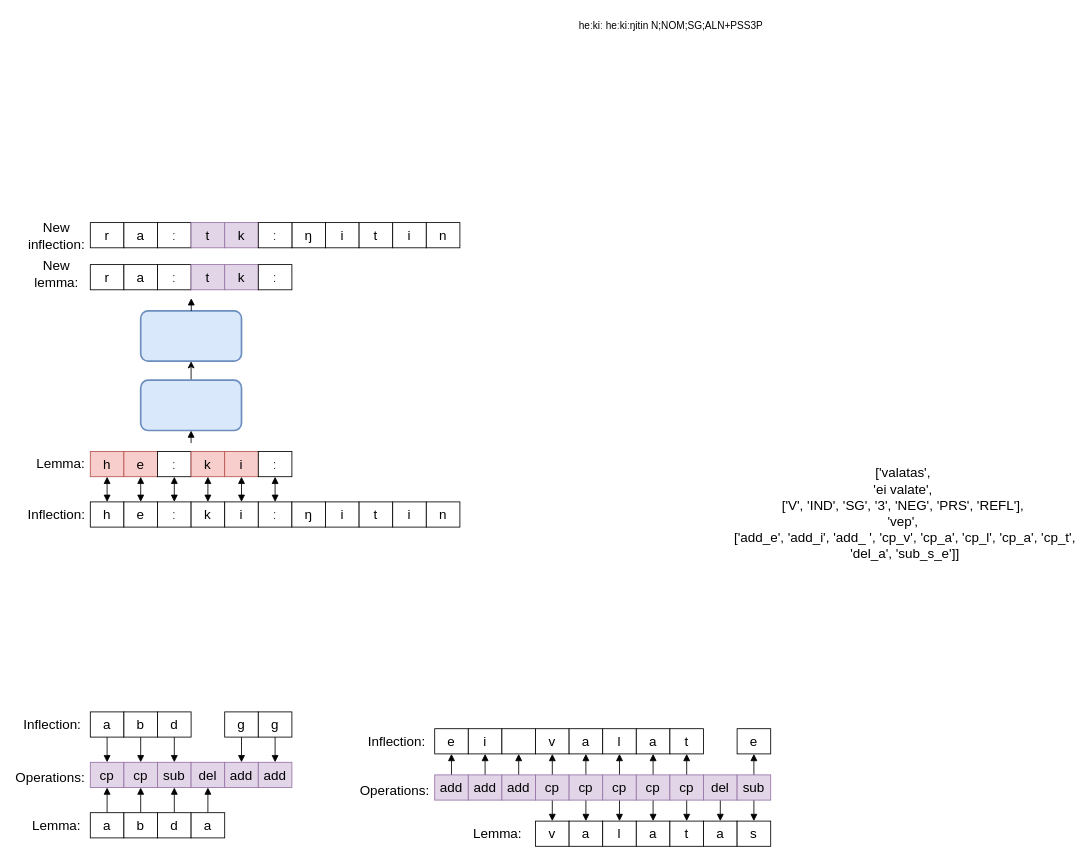
The diagram is 1091 pixels wide and 861 high, and some of its shapes have lost their labels. The shapes that lost their labels are listed below. From the top down, each one's box as (x1, y1, x2, y2) in pixels, then its label:
(139, 310, 242, 362): Sample random (1,2,3)-grams
(139, 379, 242, 431): Sample random subsequence
